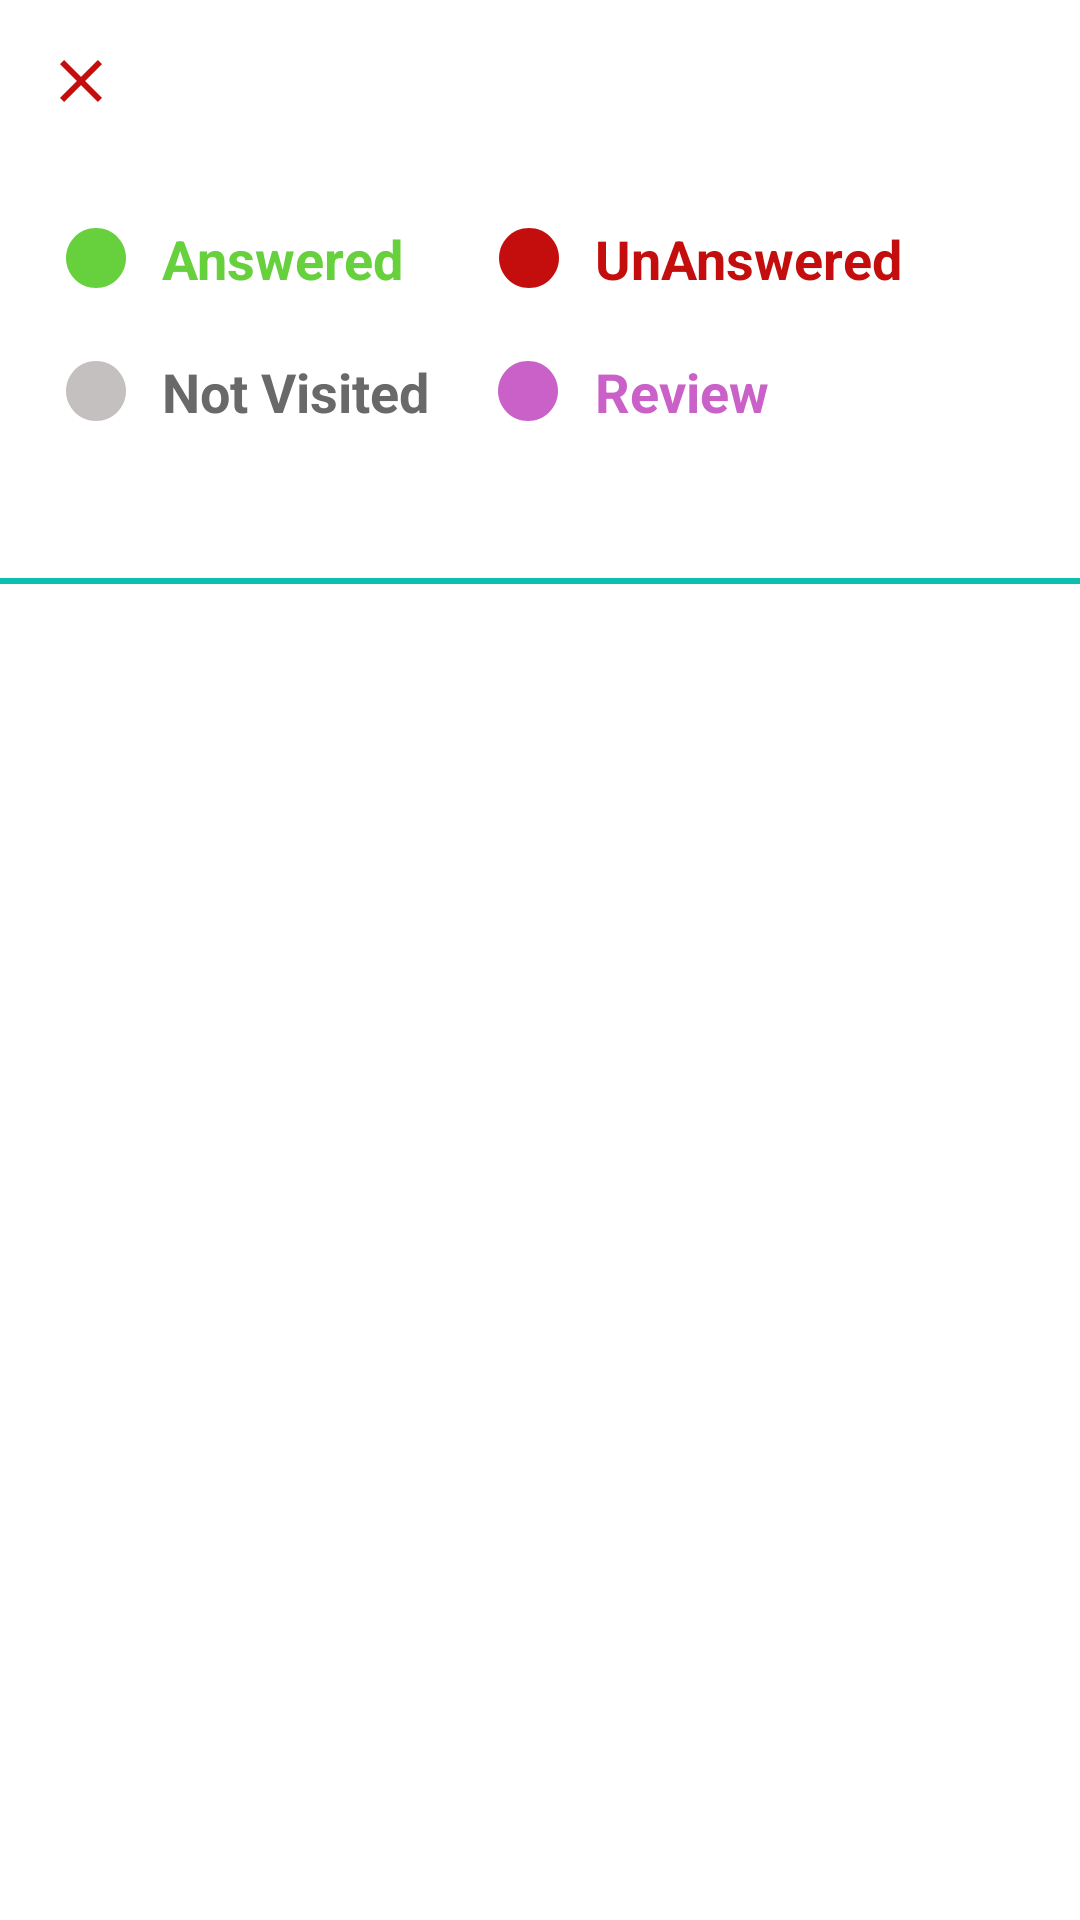

Where icons sit on this 1080px x 1920px app screen, as (x1, y1, x2, y2):
close: (60, 60, 102, 102)
